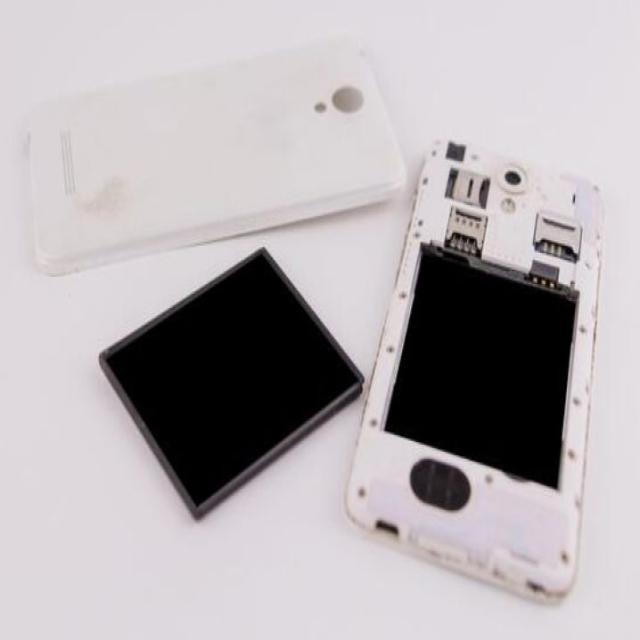electronic: (335, 65, 622, 640)
